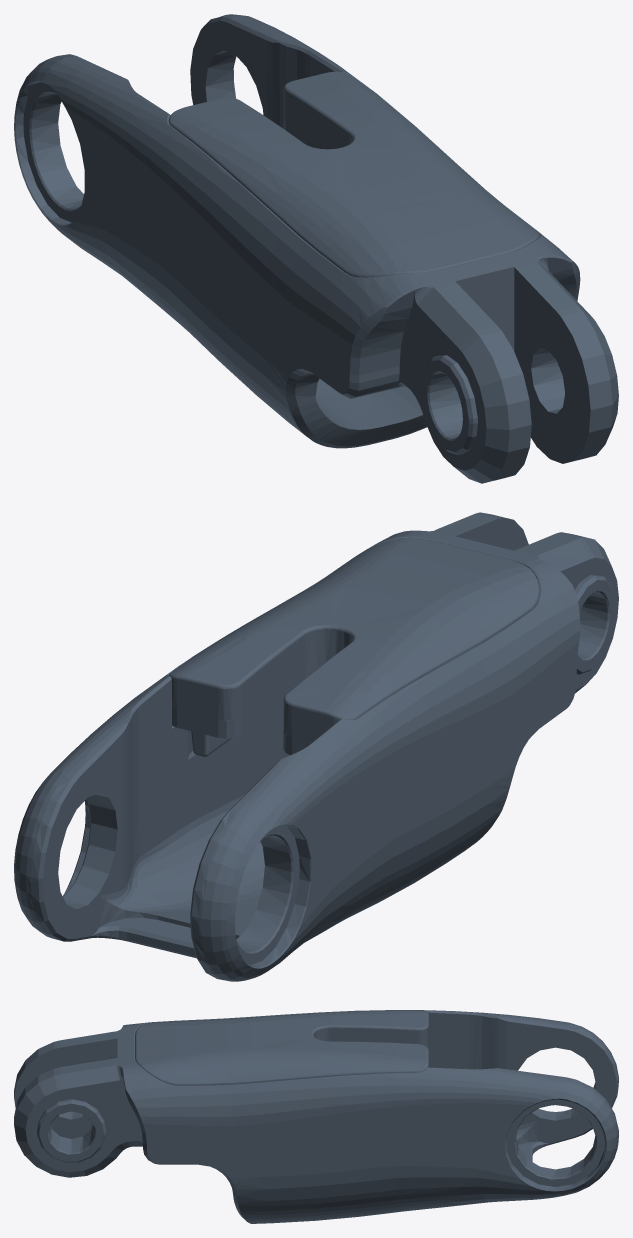
The model's file is R_ring_prox.dae.
The picture shows the model from 3 angles, top to bottom: view 1: azimuth 30°, elevation 25°; view 2: azimuth 150°, elevation 25°; view 3: azimuth 270°, elevation 25°; orthographic projection. The views are drawn at different scales.
Parts seen in each view (by area): view 1: R_ring_prox; view 2: R_ring_prox; view 3: R_ring_prox.
Boxes of the visible parts, x1,y1,x2,y2 form: R_ring_prox: (14, 14, 618, 483); R_ring_prox: (14, 512, 618, 981); R_ring_prox: (14, 1010, 618, 1223).
Bounding box in the file's own units: 0.0154 × 0.0525 × 0.0172.
